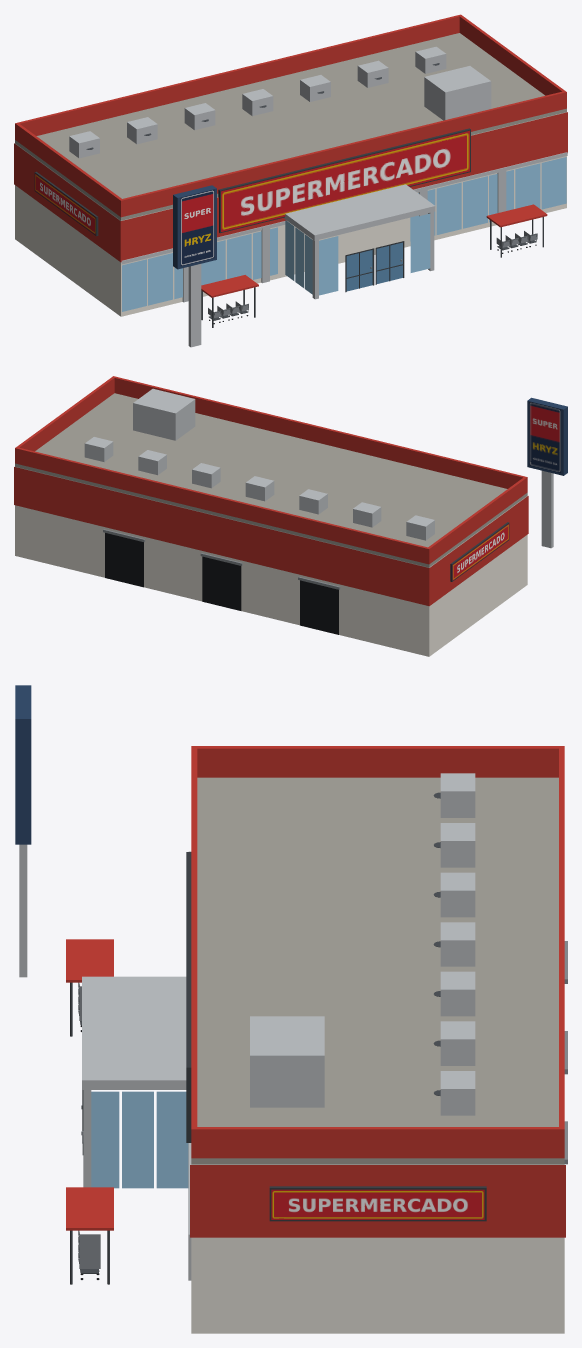
File: supermercado.glb
The picture shows the model from 3 angles, top to bottom: view 1: azimuth 30°, elevation 25°; view 2: azimuth 150°, elevation 25°; view 3: azimuth 270°, elevation 25°; orthographic projection. The views are drawn at different scales.
Visible parts, largest first — view 1: Telhado, Detalhes, VidroLuz, Letreiro, Paredes, Vidro, Molduras; view 2: Telhado, Detalhes, Paredes, Letreiro; view 3: Telhado, Detalhes, Paredes, VidroLuz, Letreiro.
Boxes of the visible parts, x1,y1,x2,y2 form: Telhado: (15, 14, 566, 220); Detalhes: (14, 46, 567, 347); VidroLuz: (122, 157, 566, 311); Letreiro: (35, 130, 469, 266); Paredes: (15, 112, 566, 316); Vidro: (174, 182, 461, 299); Molduras: (345, 241, 404, 292); Telhado: (15, 376, 527, 567); Detalhes: (14, 388, 567, 634); Paredes: (15, 466, 527, 656); Letreiro: (452, 401, 560, 580); Telhado: (191, 746, 564, 1164); Detalhes: (15, 685, 567, 1284); Paredes: (191, 1164, 564, 1333); VidroLuz: (91, 1091, 188, 1188); Letreiro: (271, 1189, 484, 1219).
Size of the model in its own units: 34.4 by 11.2 by 20.77.
19 materials, 5 textured.
